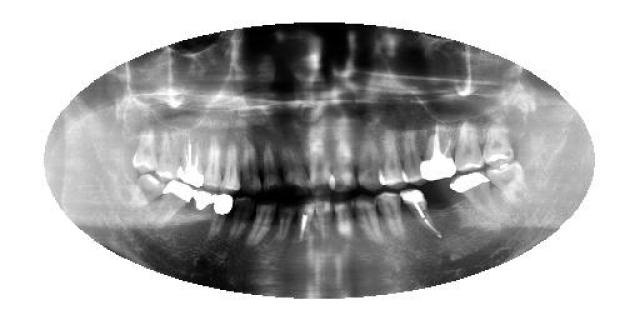Fillings: (450, 172, 499, 218), (154, 180, 194, 225), (208, 192, 234, 240), (192, 189, 212, 215)
Implant: (399, 188, 445, 240), (420, 121, 456, 182), (178, 132, 204, 188)
